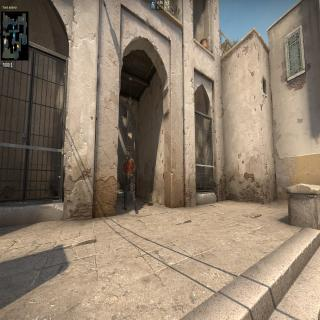T-Head: (125, 149, 131, 160)
